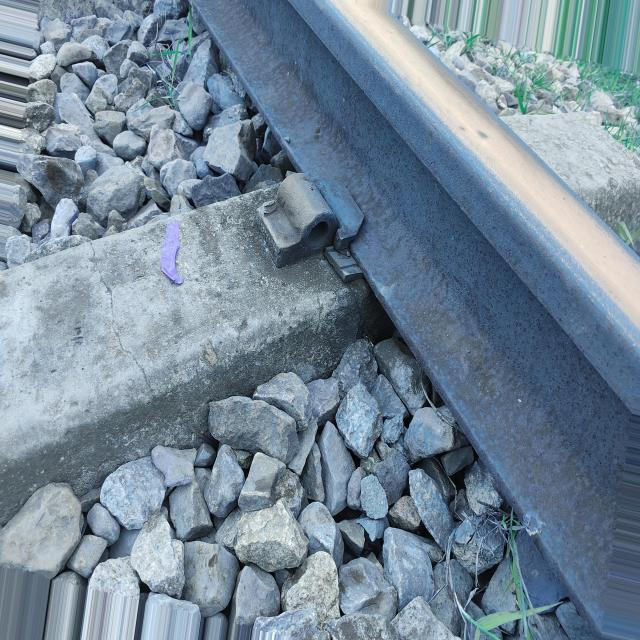Good Fasteners: (241, 166, 359, 291)
